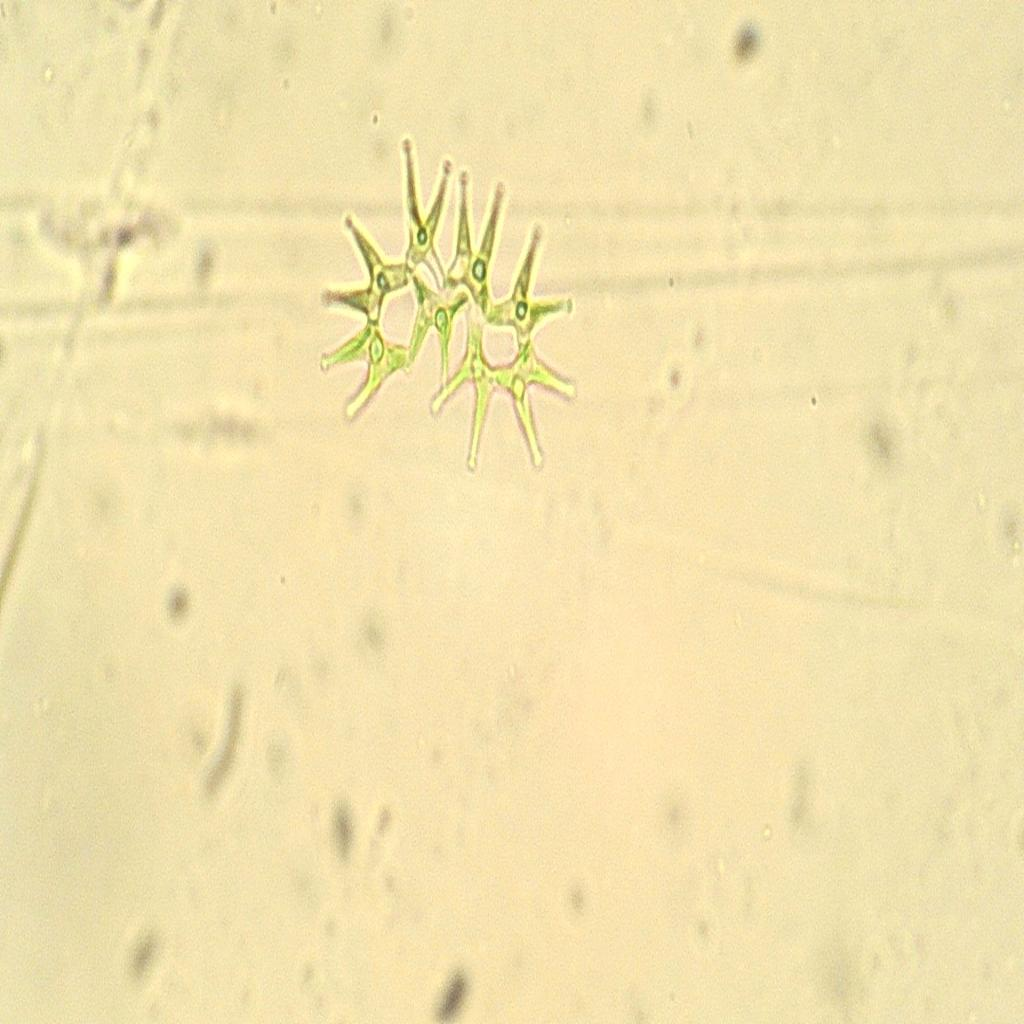Pediastrum_CFI: (303, 134, 584, 484)
